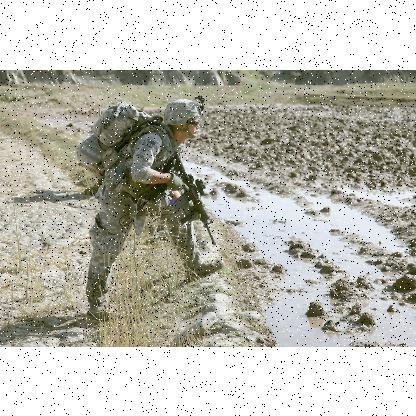gun: (159, 162, 221, 240)
